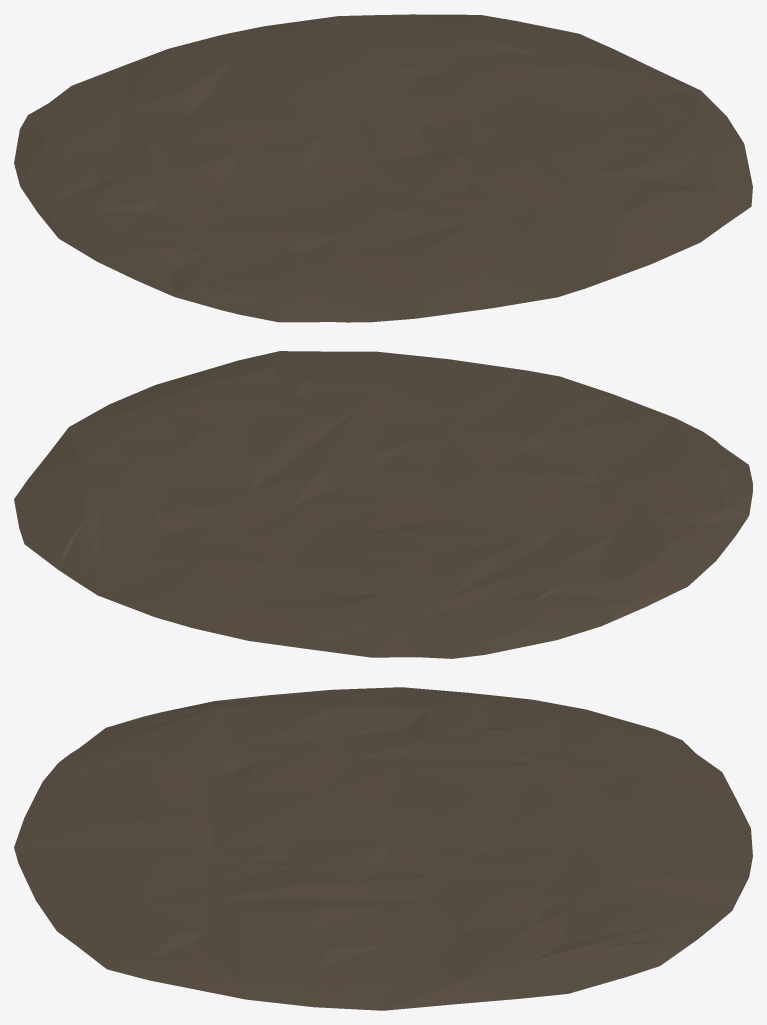
The model's file is crypt_dirt_round.gltf.
3 views of the same model, one above another, from view 1: azimuth 30°, elevation 25°; view 2: azimuth 150°, elevation 25°; view 3: azimuth 270°, elevation 25° (orthographic). The views are drawn at different scales.
Parts seen in each view (by area): view 1: crypt_dirt_round; view 2: crypt_dirt_round; view 3: crypt_dirt_round.
Boxes of the visible parts, box(x1,y1,x2,y2) form: crypt_dirt_round: box(14, 14, 752, 322); crypt_dirt_round: box(14, 351, 752, 658); crypt_dirt_round: box(14, 687, 752, 1010).
Bounding box in the file's own units: 7.8 × 0.0884 × 7.52.
1 material, 1 textured.
